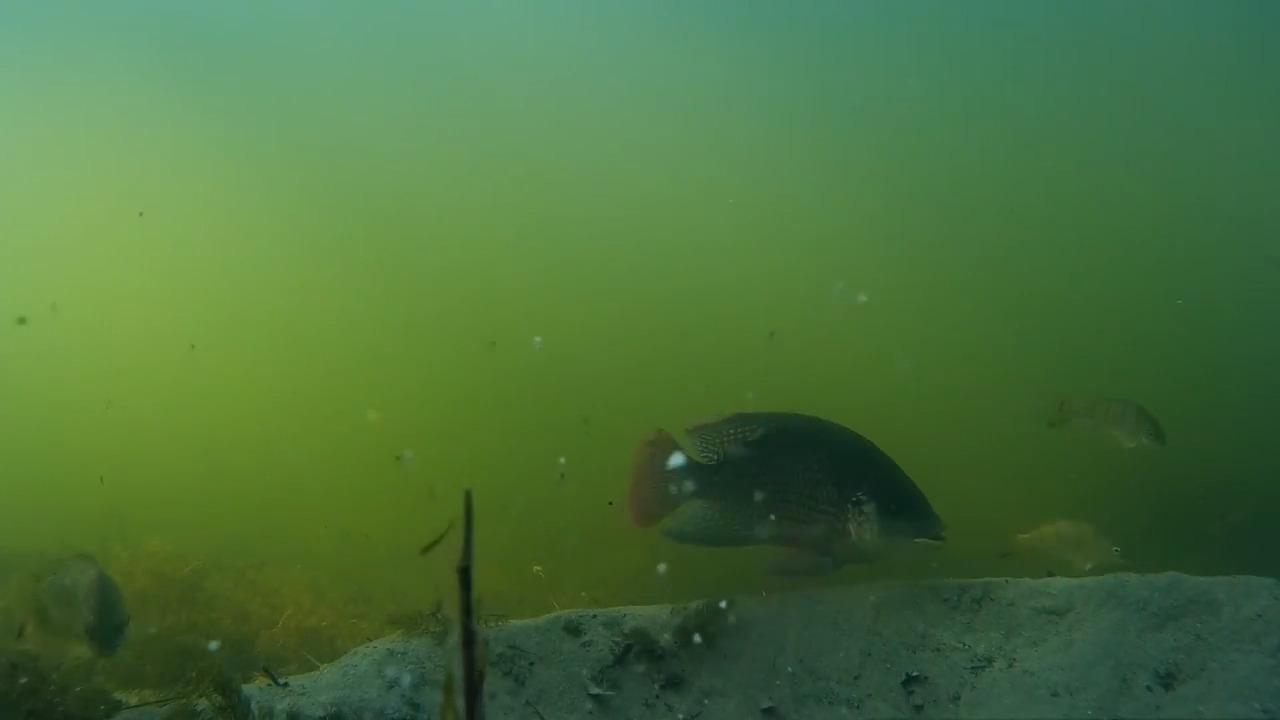Tilapia: (628, 400, 957, 586), (15, 536, 141, 670), (1002, 516, 1155, 608), (1044, 384, 1185, 470)
